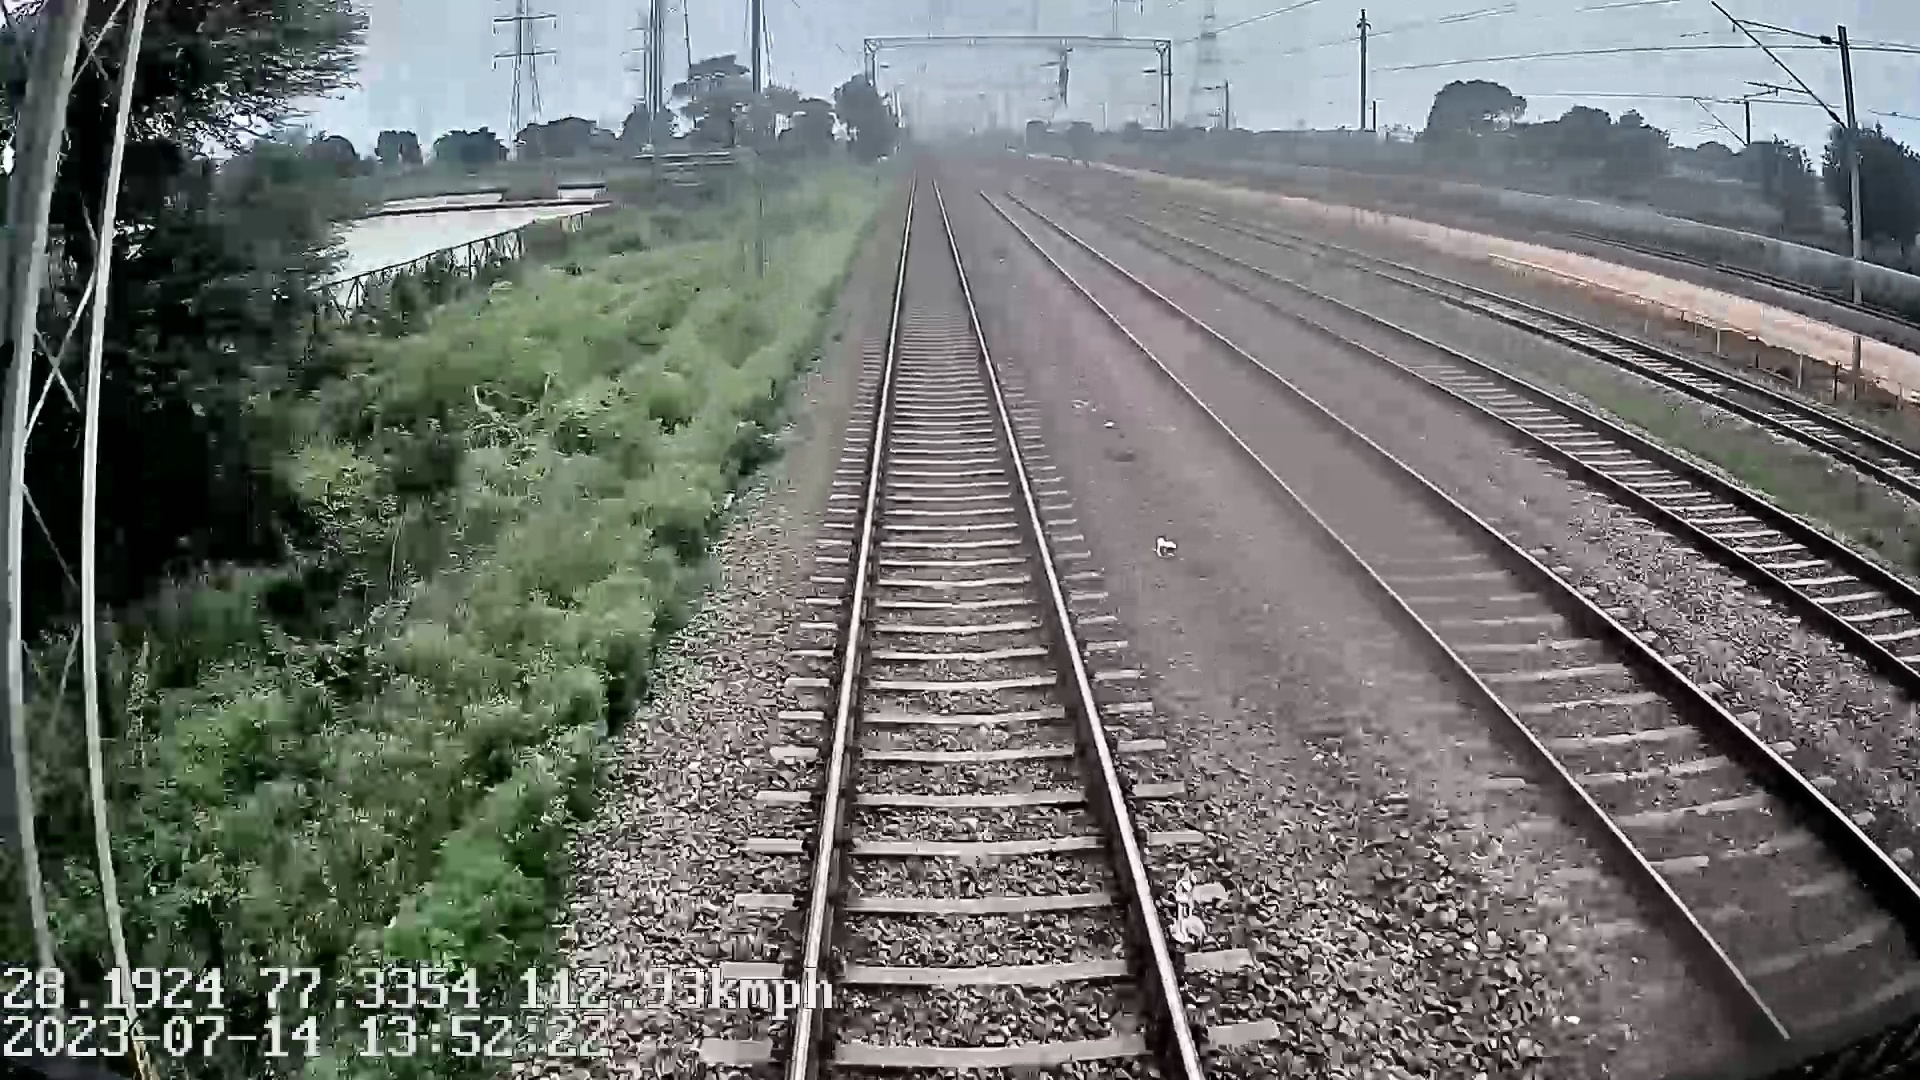track1: (796, 181, 1189, 1064)
track2: (980, 190, 1911, 967)
track3: (1131, 227, 1915, 657)
track4: (1374, 260, 1919, 484)
